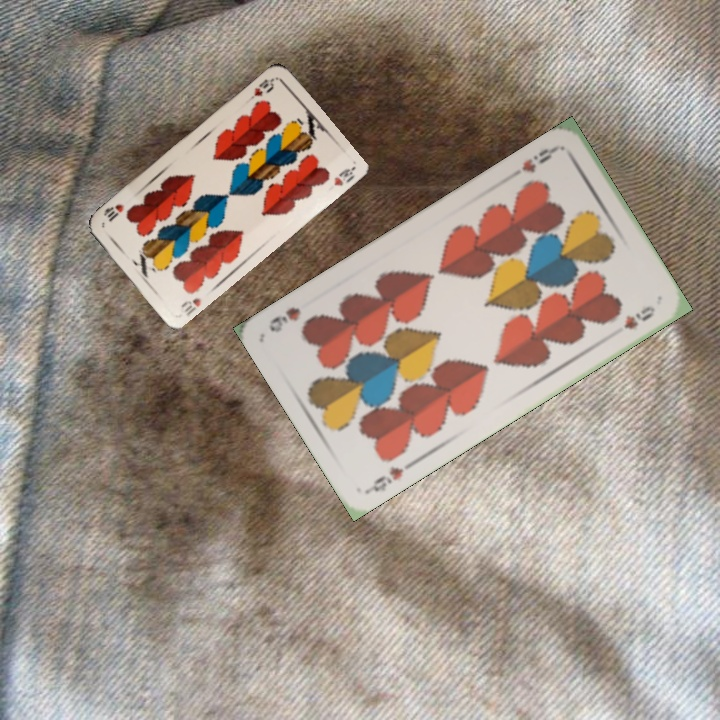H10: (244, 74, 277, 105), (177, 293, 203, 318)
H9: (517, 141, 561, 176), (363, 462, 407, 495)
